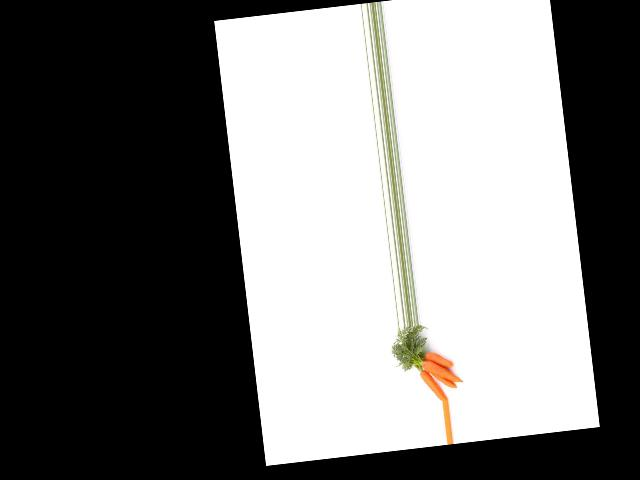carrot: (421, 348, 457, 372)
